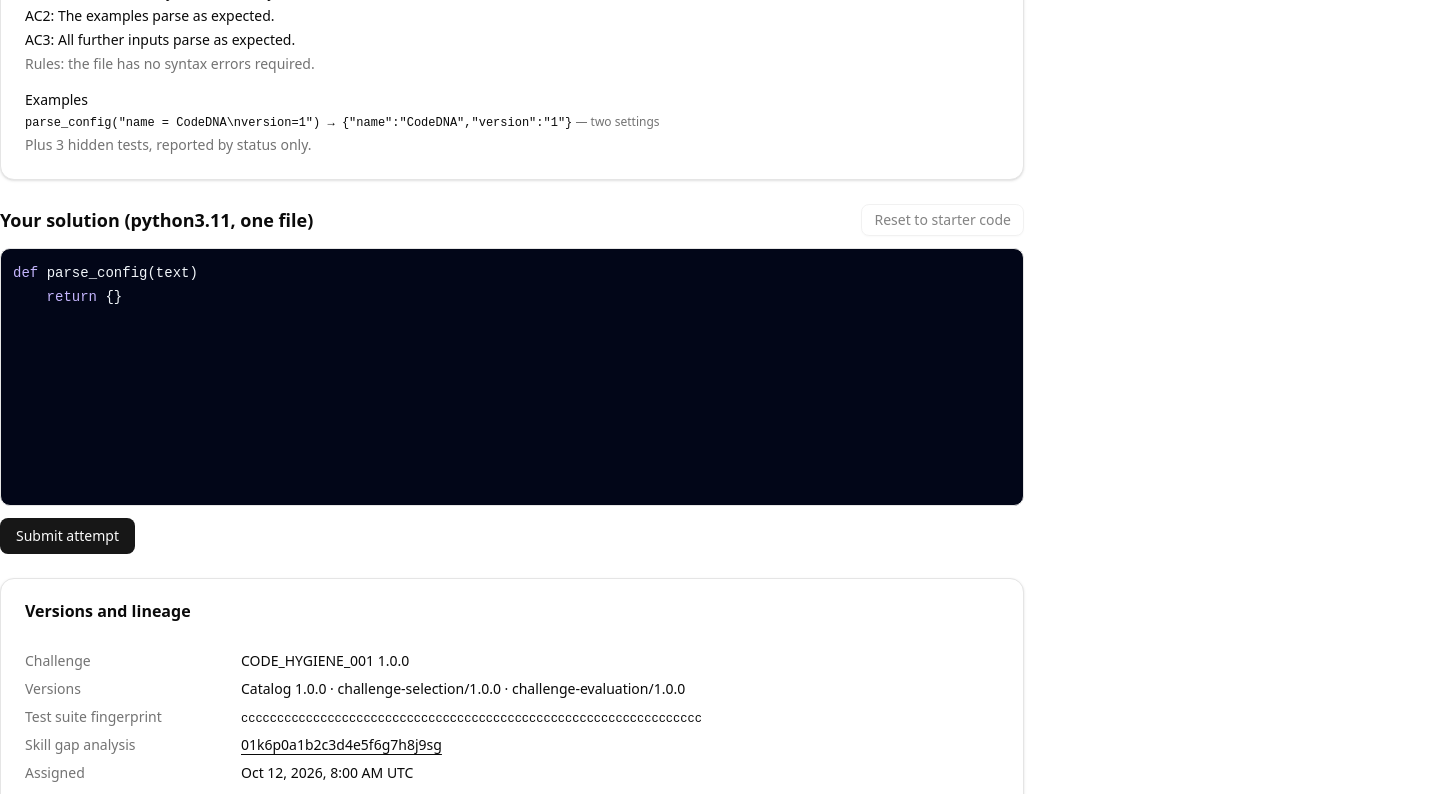
Test case: ChallengeDetail › shows submission refusals from the API
This screenshot has width=1440, height=794.
(page scrolled)
Click the button "Submit attempt" at x=68, y=536, box [0,518,135,554]
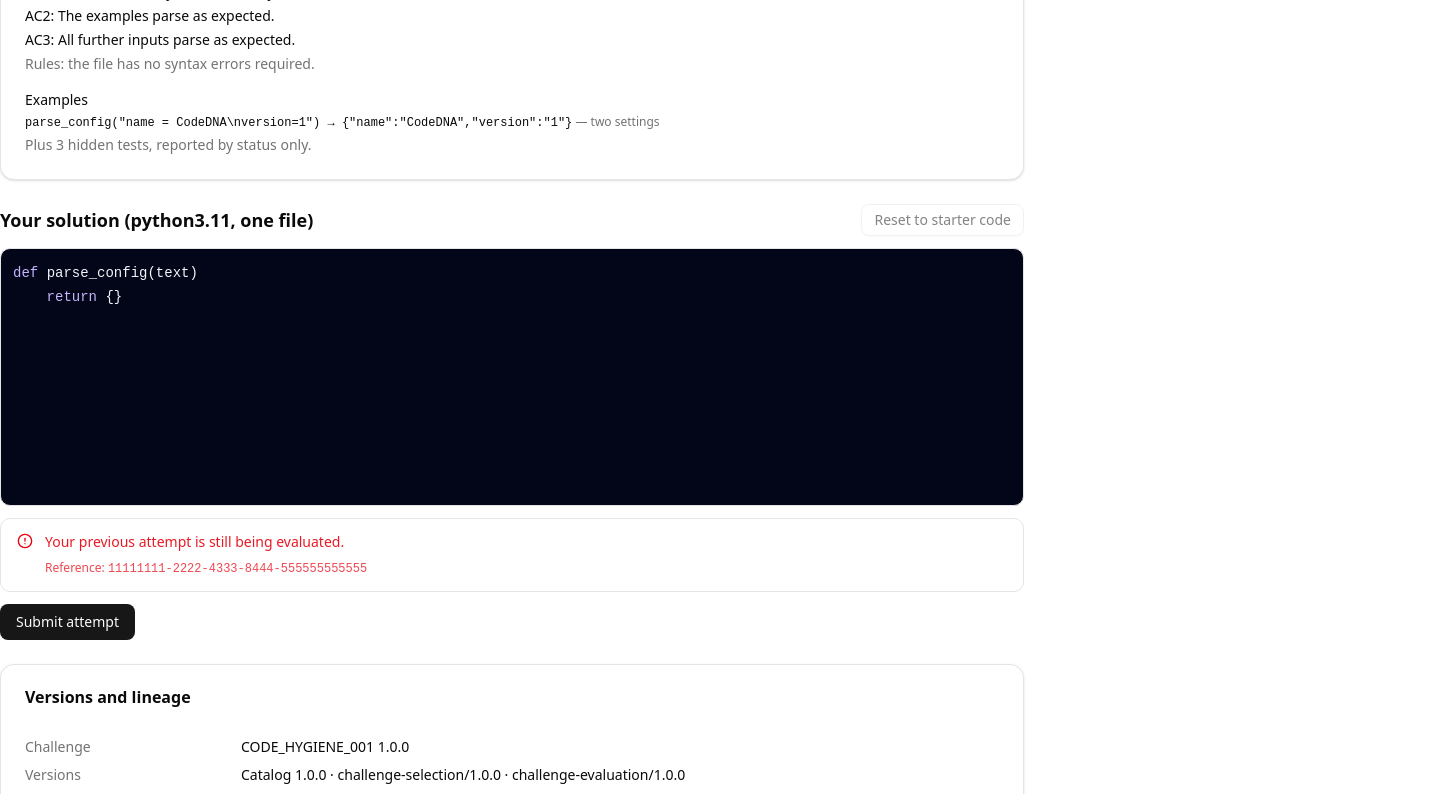
Result: the text "Your previous attempt is still being evaluated." is shown at [45,531,344,554]
